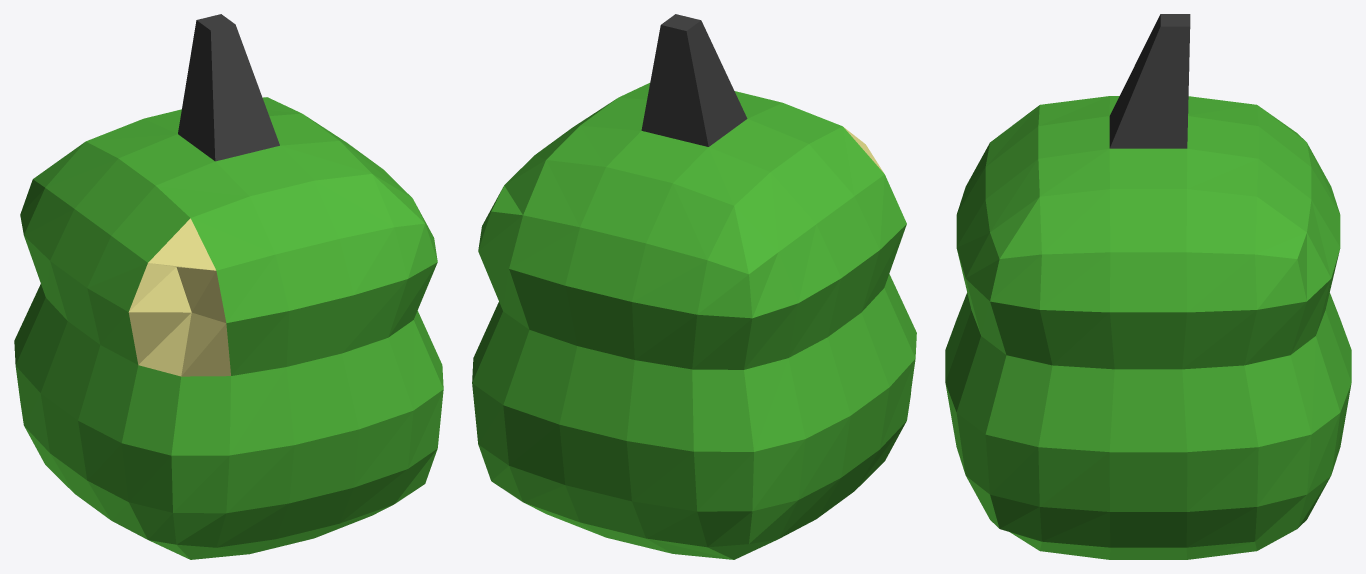
The model's file is pera.obj.
3 views of the same model, side by side, from view 1: azimuth 30°, elevation 25°; view 2: azimuth 150°, elevation 25°; view 3: azimuth 270°, elevation 25° (orthographic). The views are drawn at different scales.
Parts seen in each view (by area): view 1: Cube_Cube.006; view 2: Cube_Cube.006; view 3: Cube_Cube.006.
Boxes of the visible parts, bbox=[...] form: Cube_Cube.006: bbox=[14, 14, 443, 559]; Cube_Cube.006: bbox=[472, 14, 916, 559]; Cube_Cube.006: bbox=[945, 14, 1351, 559].
Size of the model in its own units: 1.9 by 2.59 by 1.9.
